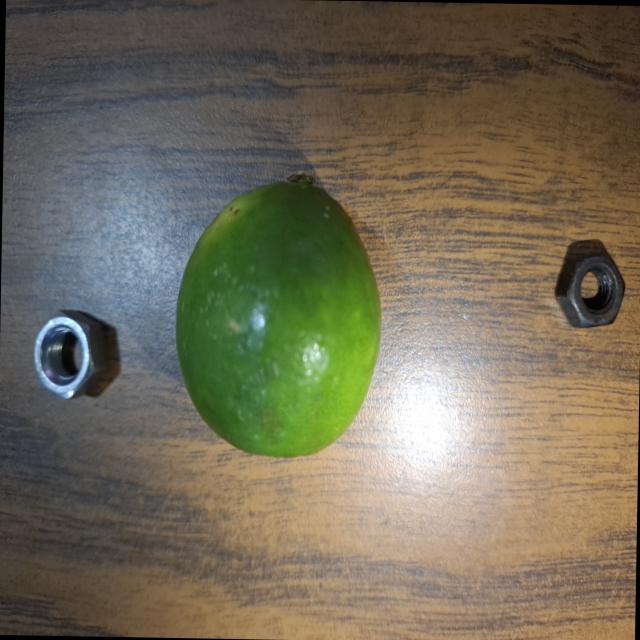limon: (170, 166, 384, 463)
milimetrico: (549, 244, 626, 330)
tuerca: (32, 299, 108, 404)
